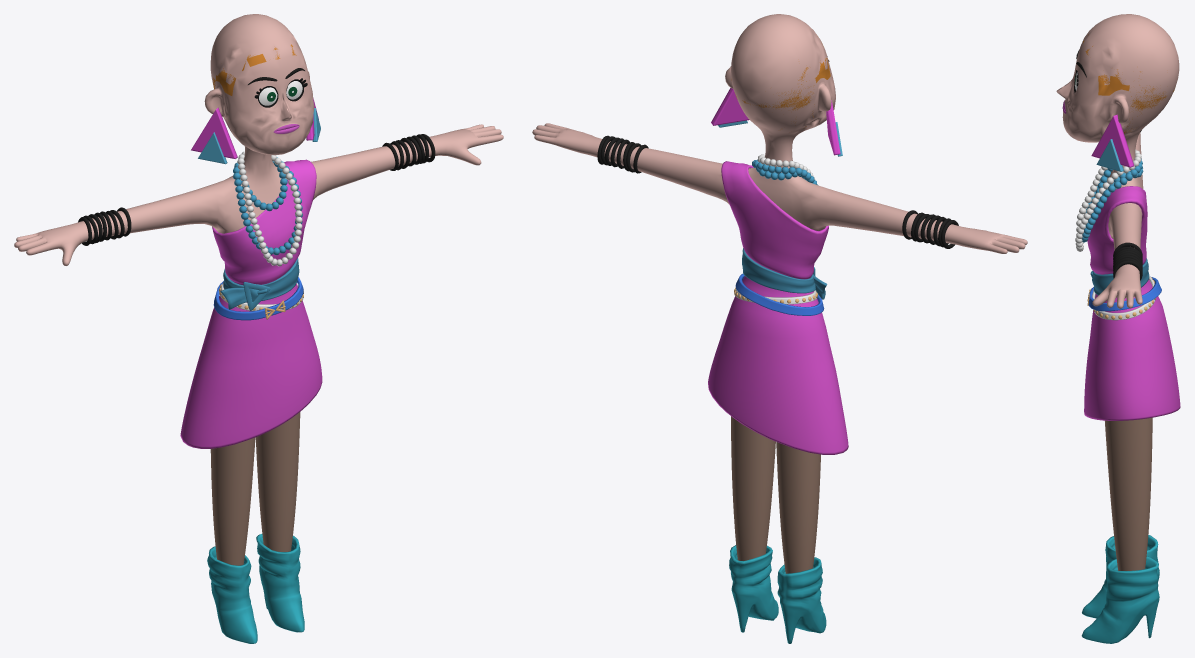
File: r84-victoria-audition.glb
3 renders of one model, left to right at view 1: azimuth 30°, elevation 25°; view 2: azimuth 150°, elevation 25°; view 3: azimuth 270°, elevation 25°, orthographic.
Visible parts, largest first — view 1: R84_AUDITION_GEO_GEO-victoria_body_upper, R84_AUDITION_GEO_GEO-victoria_dress, R84_AUDITION_GEO_GEO-victoria_body_legs, R84_AUDITION_GEO_GEO-victoria_boots, R84_AUDITION_GEO_GEO-victoria_necklaces, R84_AUDITION_GEO_GEO-victoria_bracelets, R84_AUDITION_GEO_GEO-victoria_earrings, R84_AUDITION_GEO_GEO-victoria_belt_main, R84_AUDITION_GEO_GEO-victoria_belt_blue; view 2: R84_AUDITION_GEO_GEO-victoria_dress, R84_AUDITION_GEO_GEO-victoria_body_upper, R84_AUDITION_GEO_GEO-victoria_body_legs, R84_AUDITION_GEO_GEO-victoria_boots, R84_AUDITION_GEO_GEO-victoria_bracelets, R84_AUDITION_GEO_GEO-victoria_belt_main, R84_AUDITION_GEO_GEO-victoria_earrings, R84_AUDITION_GEO_GEO-victoria_necklaces, R84_AUDITION_GEO_GEO-victoria_belt_blue, R84_AUDITION_GEO_GEO-victoria_hair.scalp; view 3: R84_AUDITION_GEO_GEO-victoria_body_upper, R84_AUDITION_GEO_GEO-victoria_dress, R84_AUDITION_GEO_GEO-victoria_body_legs, R84_AUDITION_GEO_GEO-victoria_boots, R84_AUDITION_GEO_GEO-victoria_necklaces, R84_AUDITION_GEO_GEO-victoria_earrings, R84_AUDITION_GEO_GEO-victoria_hair.scalp, R84_AUDITION_GEO_GEO-victoria_bracelets, R84_AUDITION_GEO_GEO-victoria_belt_blue, R84_AUDITION_GEO_GEO-victoria_belt_white, R84_AUDITION_GEO_GEO-victoria_belt_main.
Boxes of the visible parts, x1,y1,x2,y2 form: R84_AUDITION_GEO_GEO-victoria_body_upper: (14,14,503,265); R84_AUDITION_GEO_GEO-victoria_dress: (180,159,322,448); R84_AUDITION_GEO_GEO-victoria_body_legs: (210,412,300,565); R84_AUDITION_GEO_GEO-victoria_boots: (207,534,304,643); R84_AUDITION_GEO_GEO-victoria_necklaces: (233,151,302,266); R84_AUDITION_GEO_GEO-victoria_bracelets: (78,134,435,245); R84_AUDITION_GEO_GEO-victoria_earrings: (191,98,320,164); R84_AUDITION_GEO_GEO-victoria_belt_main: (220,258,299,309); R84_AUDITION_GEO_GEO-victoria_belt_blue: (213,277,303,320); R84_AUDITION_GEO_GEO-victoria_dress: (708,161,848,454); R84_AUDITION_GEO_GEO-victoria_body_upper: (532,14,1027,253); R84_AUDITION_GEO_GEO-victoria_body_legs: (731,416,820,573); R84_AUDITION_GEO_GEO-victoria_boots: (729,545,826,643); R84_AUDITION_GEO_GEO-victoria_bracelets: (597,135,958,248); R84_AUDITION_GEO_GEO-victoria_belt_main: (742,248,827,299); R84_AUDITION_GEO_GEO-victoria_earrings: (711,87,842,156); R84_AUDITION_GEO_GEO-victoria_necklaces: (752,154,818,185); R84_AUDITION_GEO_GEO-victoria_belt_blue: (735,273,824,315); R84_AUDITION_GEO_GEO-victoria_hair.scalp: (731,46,830,128); R84_AUDITION_GEO_GEO-victoria_body_upper: (1056,14,1179,308); R84_AUDITION_GEO_GEO-victoria_dress: (1084,186,1180,420); R84_AUDITION_GEO_GEO-victoria_body_legs: (1105,417,1152,570); R84_AUDITION_GEO_GEO-victoria_boots: (1081,535,1159,643); R84_AUDITION_GEO_GEO-victoria_necklaces: (1075,149,1143,251); R84_AUDITION_GEO_GEO-victoria_earrings: (1091,114,1134,171); R84_AUDITION_GEO_GEO-victoria_hair.scalp: (1083,34,1174,133); R84_AUDITION_GEO_GEO-victoria_bracelets: (1113,130,1142,280); R84_AUDITION_GEO_GEO-victoria_belt_blue: (1087,276,1161,311); R84_AUDITION_GEO_GEO-victoria_belt_white: (1092,276,1155,320); R84_AUDITION_GEO_GEO-victoria_belt_main: (1092,258,1149,295).
Size of the model in its own units: 1.19 by 1.42 by 0.2631.
